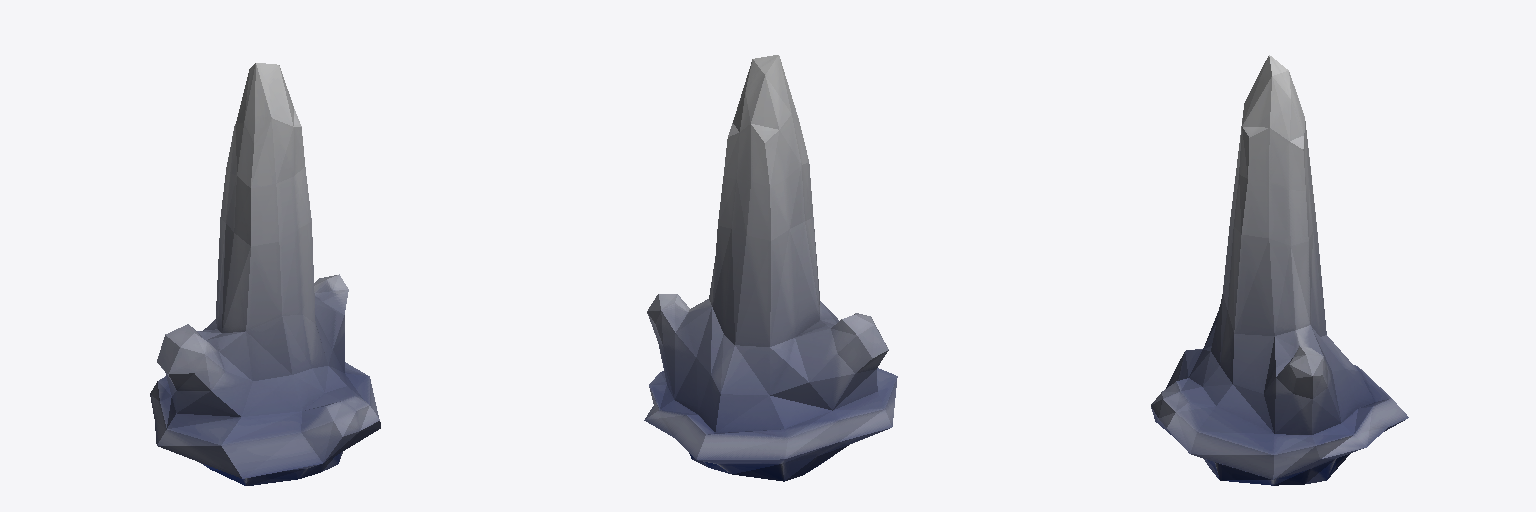
3 views of the same model, side by side, from view 1: azimuth 30°, elevation 25°; view 2: azimuth 150°, elevation 25°; view 3: azimuth 270°, elevation 25° (orthographic).
Parts seen in each view (by area): view 1: Projectile_EarthSpike_0002; view 2: Projectile_EarthSpike_0002; view 3: Projectile_EarthSpike_0002.
Boxes of the visible parts, <box> form: Projectile_EarthSpike_0002: <box>150,63,380,485</box>; Projectile_EarthSpike_0002: <box>644,55,897,481</box>; Projectile_EarthSpike_0002: <box>1151,55,1408,485</box>.
Size of the model in its own units: 104 by 176 by 104.
1 materials, 1 textured.